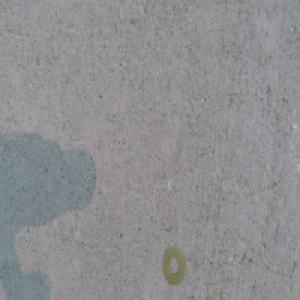Washer: (162, 247, 186, 287)
